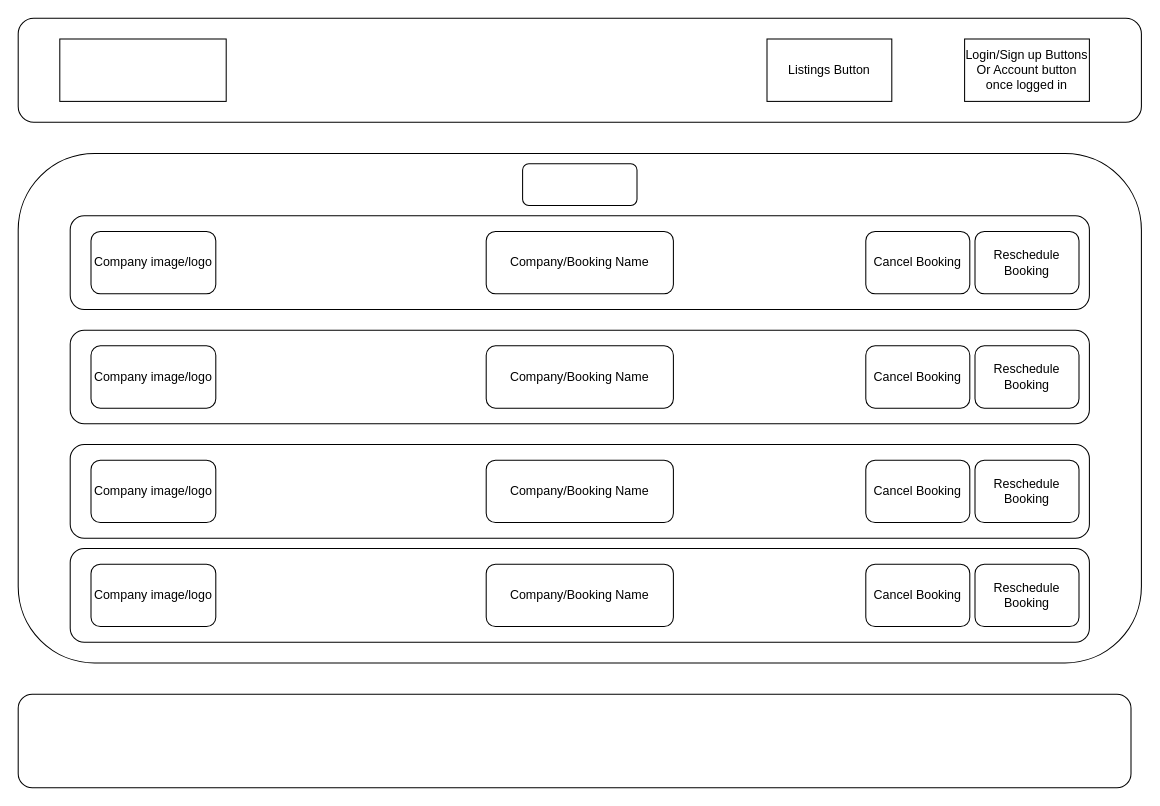
The diagram is 1160 pixels wide and 806 high, and some of its shapes have lost their labels. The centre of each missing label's shape, as x and y in pixels:
Footer containing contact information and socials: (574,740)
My Bookings: (579,184)
Product Logo: (142,69)
